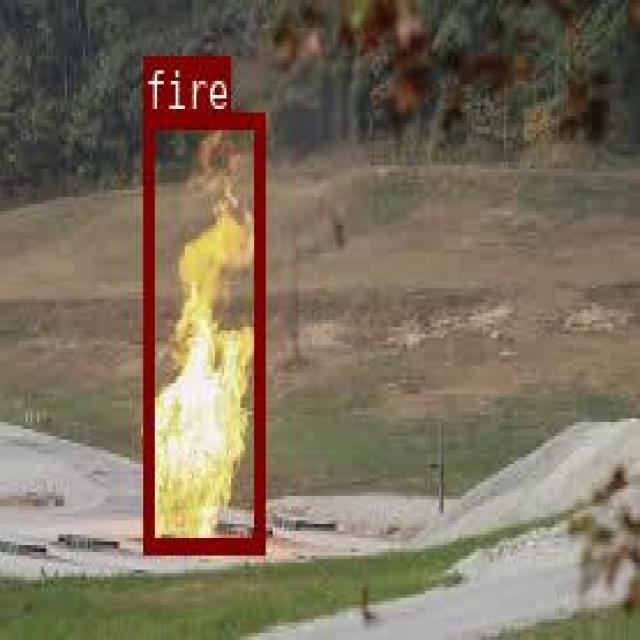fire: (142, 110, 263, 550)
